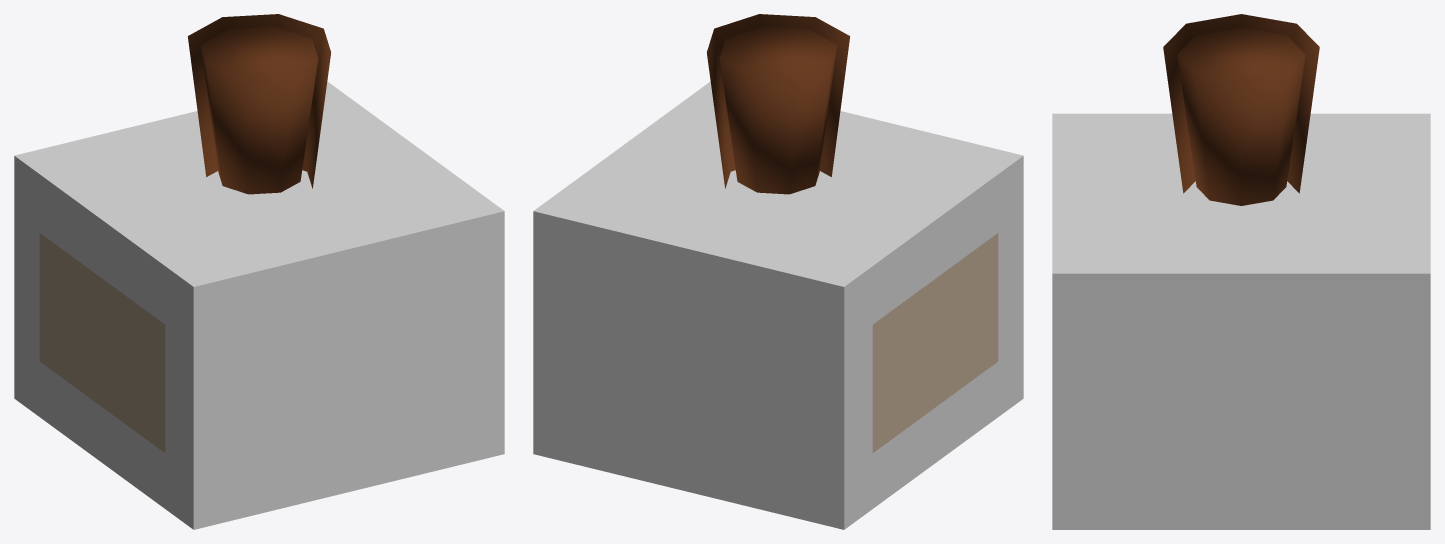
File: potion10.glb
The picture shows the model from 3 angles, left to right: view 1: azimuth 30°, elevation 25°; view 2: azimuth 150°, elevation 25°; view 3: azimuth 270°, elevation 25°; orthographic projection. The views are drawn at different scales.
Visible parts, largest first — view 1: Cube.015, Cylinder.017, Plane; view 2: Cube.015, Cylinder.017, Plane; view 3: Cube.015, Cylinder.017.
Boxes of the visible parts, x1,y1,x2,y2 form: Cube.015: (14, 81, 504, 529); Cylinder.017: (187, 14, 331, 194); Plane: (39, 233, 165, 452); Cube.015: (533, 81, 1023, 529); Cylinder.017: (706, 14, 850, 194); Plane: (872, 233, 998, 452); Cube.015: (1052, 113, 1430, 529); Cylinder.017: (1163, 14, 1319, 205).
Size of the model in its own units: 2.01 by 2.35 by 2.
